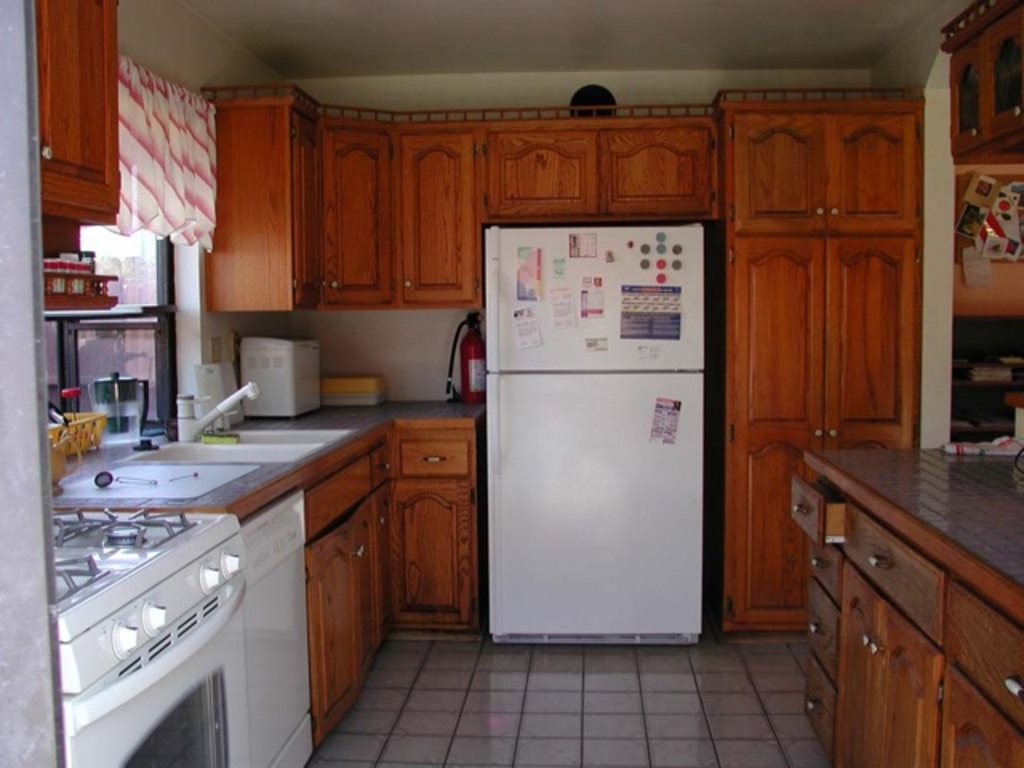cabinet door: (740, 234, 818, 614), (833, 239, 918, 437), (36, 42, 118, 202), (732, 115, 838, 228), (397, 139, 468, 297), (330, 133, 394, 302), (834, 111, 920, 228), (402, 490, 476, 615), (874, 634, 939, 768), (610, 133, 714, 209), (482, 141, 598, 209), (838, 589, 878, 768), (316, 529, 366, 672), (291, 115, 328, 306), (964, 621, 1024, 711), (350, 508, 387, 634), (858, 535, 934, 596), (950, 705, 1020, 768), (799, 670, 845, 749), (402, 439, 472, 479), (794, 602, 842, 657), (783, 484, 824, 524), (801, 545, 841, 578)
handle: (79, 596, 244, 703), (482, 367, 507, 490), (487, 223, 506, 357), (994, 659, 1024, 700), (39, 131, 62, 178), (866, 548, 895, 580), (785, 490, 812, 523), (809, 197, 830, 226), (803, 687, 818, 723), (804, 418, 826, 442), (866, 639, 884, 667), (826, 196, 843, 225), (802, 613, 822, 637), (829, 416, 844, 445), (809, 556, 826, 578), (425, 451, 446, 467), (861, 628, 870, 655)
refrigerator door: (487, 379, 703, 626), (482, 229, 705, 366)
